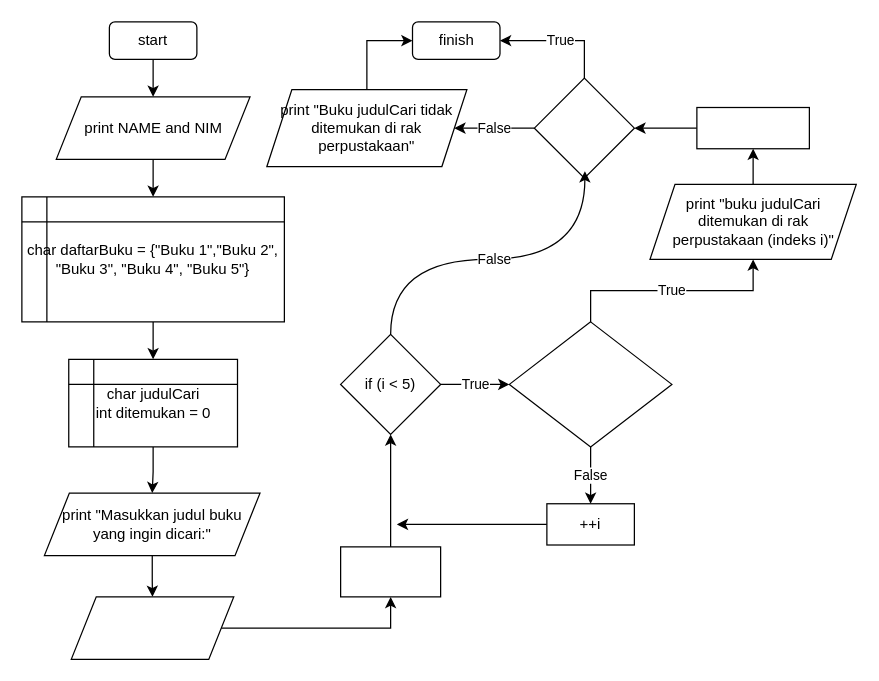
This 879x681 diagram has some shape labels left out. The centre of each missing label's shape, as x and y in pixels:
"ditemukan" belongs at point (583, 127).
"ditemukan = 1" belongs at point (752, 127).
"gets judulCari" belongs at point (152, 627).
"int i = 0" belongs at point (390, 571).
"strcmp(judulCari, daftarbuku[i] == 0)" belongs at point (590, 384).
